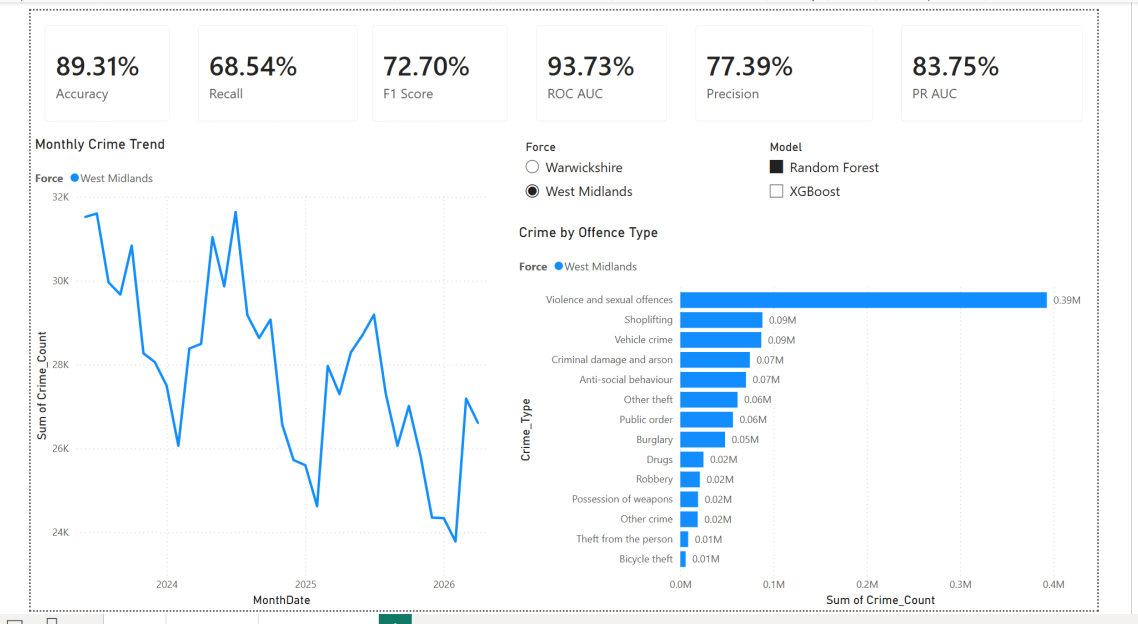

Layout of this report page (visuals, bound fields, positions):
{"tool":"powerbi","page":{"name":"Page 1","canvas":[1280,720],"ordinal":0},"visuals":[{"type":"slicer","fields":{"Values":["CrimeHotspot.Model"]},"box":[873.8,150,406.2,118.8],"z":0},{"type":"slicer","fields":{"Values":["CrimeHotspot.Force"]},"box":[581.2,150,280,96.2],"z":1000},{"type":"cardVisual","fields":{"Data":["CrimeHotspot.Accuracy"]},"box":[0,0,183.8,150],"z":2000},{"type":"cardVisual","fields":{"Data":["CrimeHotspot.Precision"]},"box":[781.2,0,246.2,150],"z":3000},{"type":"cardVisual","fields":{"Data":["CrimeHotspot.ROC AUC"]},"box":[590,0,191.2,150],"z":4000},{"type":"cardVisual","fields":{"Data":["CrimeHotspot.PR AUC"]},"box":[1027.5,0,252.5,150],"z":5000},{"type":"cardVisual","fields":{"Data":["CrimeHotspot.Recall"]},"box":[183.8,0,226.2,150],"z":6000},{"type":"cardVisual","fields":{"Data":["CrimeHotspot.F1 Score"]},"box":[392.5,0,197.5,150],"z":7000},{"type":"lineChart","title":"Monthly Crime Trend","fields":{"Y":["Sum(CrimeHotspot.Crime_Count)"],"Series":["CrimeHotspot.Force"],"Category":["CrimeHotspot.MonthDate"]},"box":[0,150,555,570],"z":8000},{"type":"barChart","title":"Crime by Offence Type","fields":{"Category":["CrimeHotspot.Crime_Type"],"Y":["Sum(CrimeHotspot.Crime_Count)"],"Series":["CrimeHotspot.Force"]},"box":[581.2,256.2,698.8,463.8],"z":9000}]}

Visuals, with their boxes in screenshot pixels (x1, y1, x2, y2), scaled from the page's 1280x720 canvas onto the 1138x624 screenshot:
slicer - CrimeHotspot.Model: 777, 130, 1137, 233
slicer - CrimeHotspot.Force: 517, 130, 766, 213
cardVisual - CrimeHotspot.Accuracy: 0, 0, 163, 130
cardVisual - CrimeHotspot.Precision: 695, 0, 913, 130
cardVisual - CrimeHotspot.ROC AUC: 525, 0, 695, 130
cardVisual - CrimeHotspot.PR AUC: 914, 0, 1137, 130
cardVisual - CrimeHotspot.Recall: 163, 0, 365, 130
cardVisual - CrimeHotspot.F1 Score: 349, 0, 525, 130
"Monthly Crime Trend" lineChart: 0, 130, 493, 623
"Crime by Offence Type" barChart: 517, 222, 1137, 623
